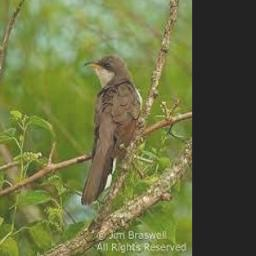Cuckoo: (80, 55, 143, 205)
